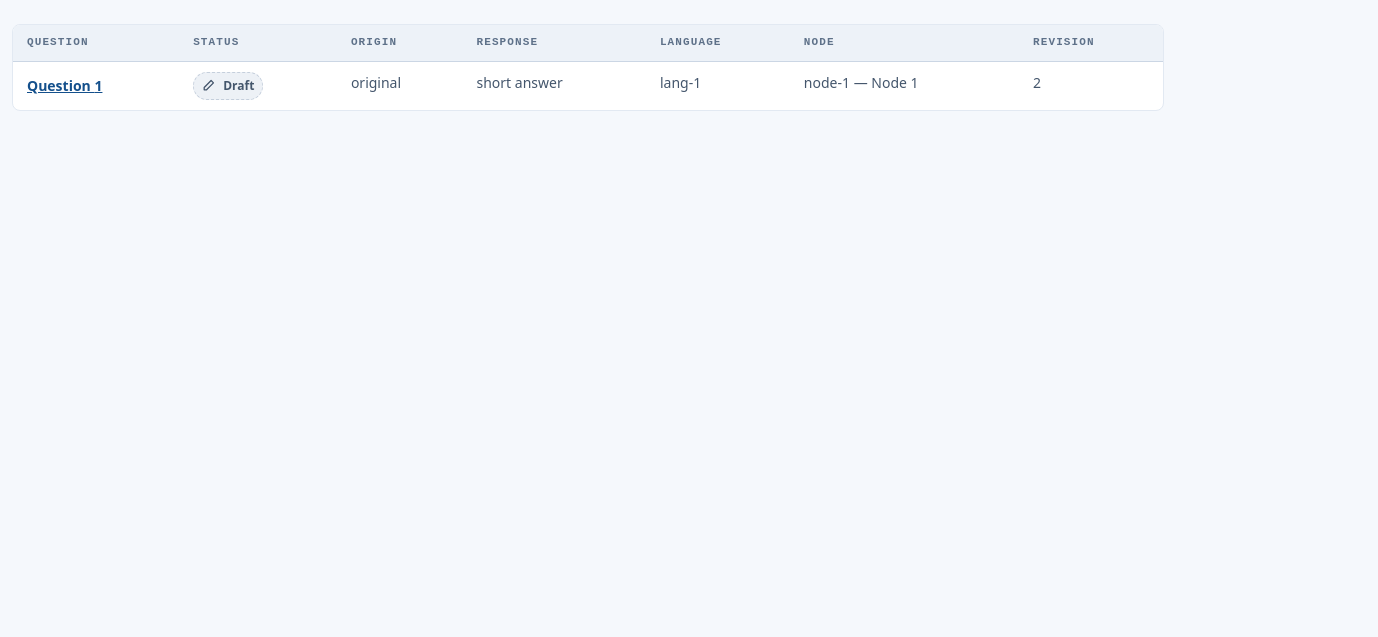
Test: QuestionsWorkspace editing and review › presents stale and current rubric revisions
Step 1. Click the button "Question 1" → (65, 86), box [27,72,102,100]
(page scrolled)
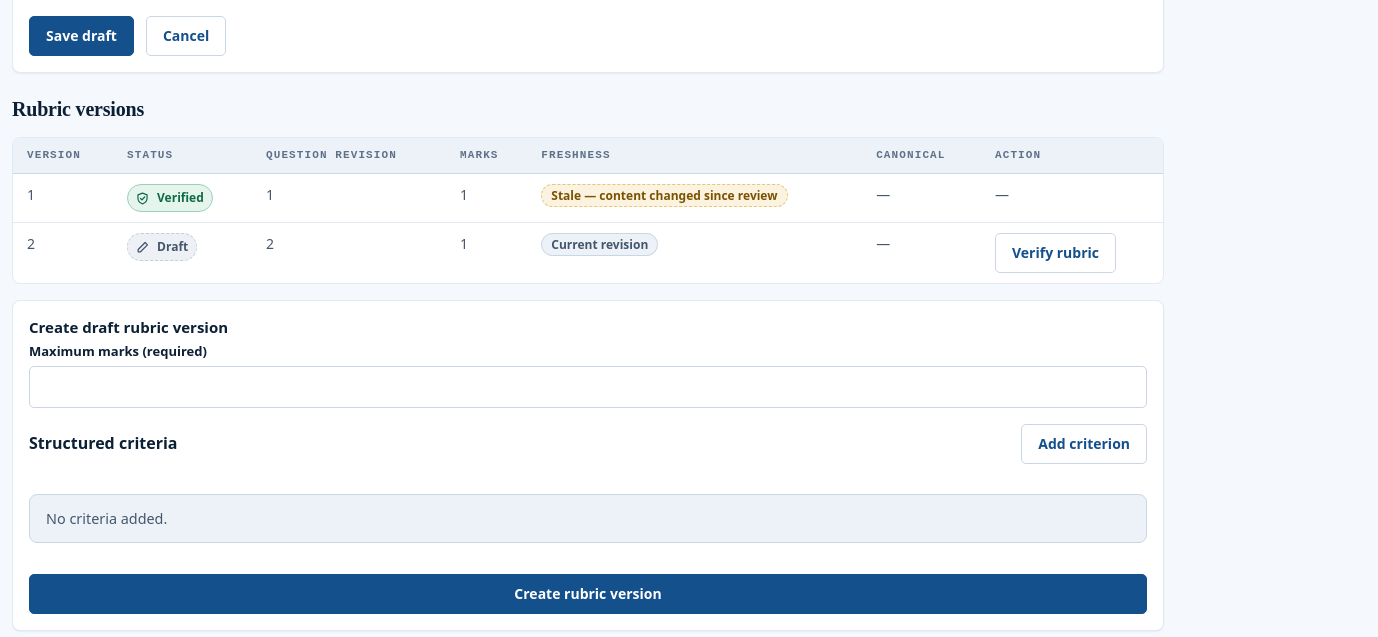
Now the text "Stale — content changed since review" is shown, box [541,184,788,207]
Now the text "Current revision" is shown, box [541,233,658,256]
Now the button "Verify rubric" is shown, box [995,233,1116,273]
